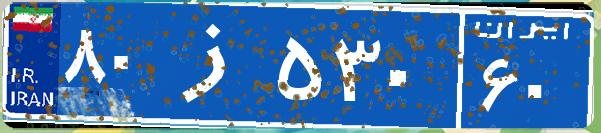0: (385, 28, 445, 110), (110, 28, 158, 105), (525, 38, 570, 115)
3: (330, 28, 385, 110)
5: (273, 28, 330, 110)
6: (475, 38, 525, 113)
8: (57, 26, 110, 107)
ز: (158, 15, 273, 115)
